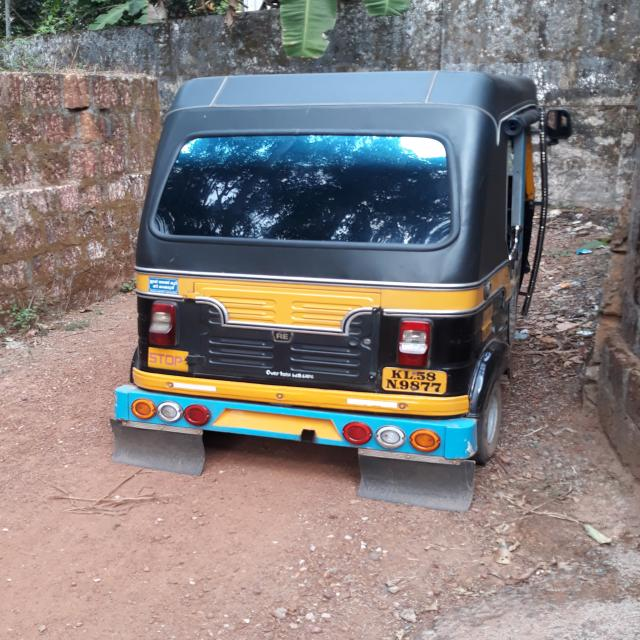Autorickshaw: (84, 32, 579, 508)
